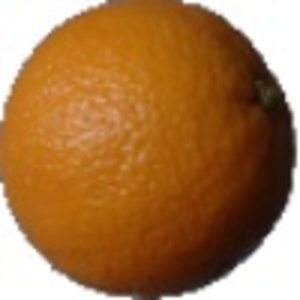laranja: (5, 4, 297, 297)
